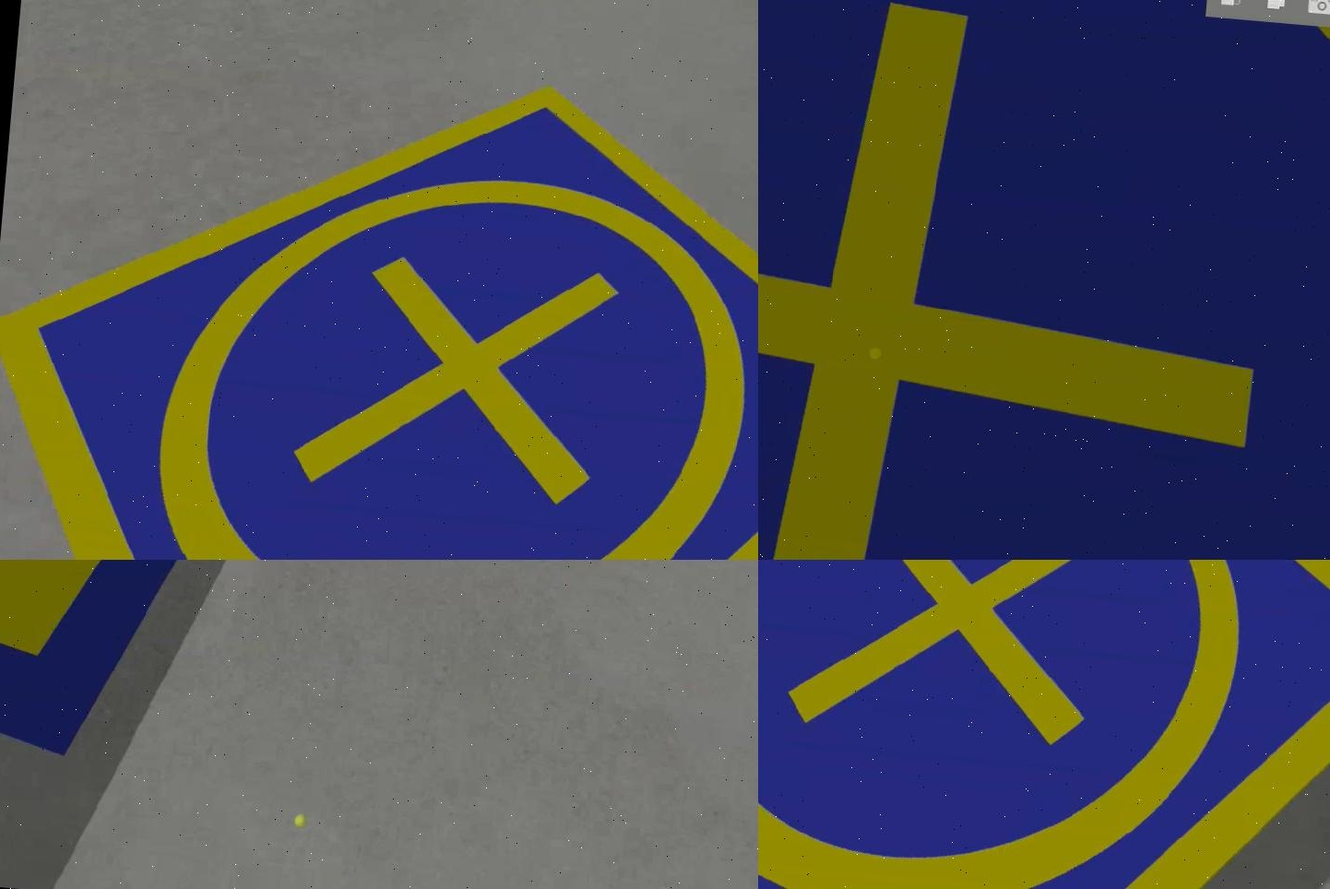large_base: (756, 1, 1328, 561), (0, 561, 309, 776)
small_base: (0, 34, 756, 561), (756, 561, 1328, 889)
